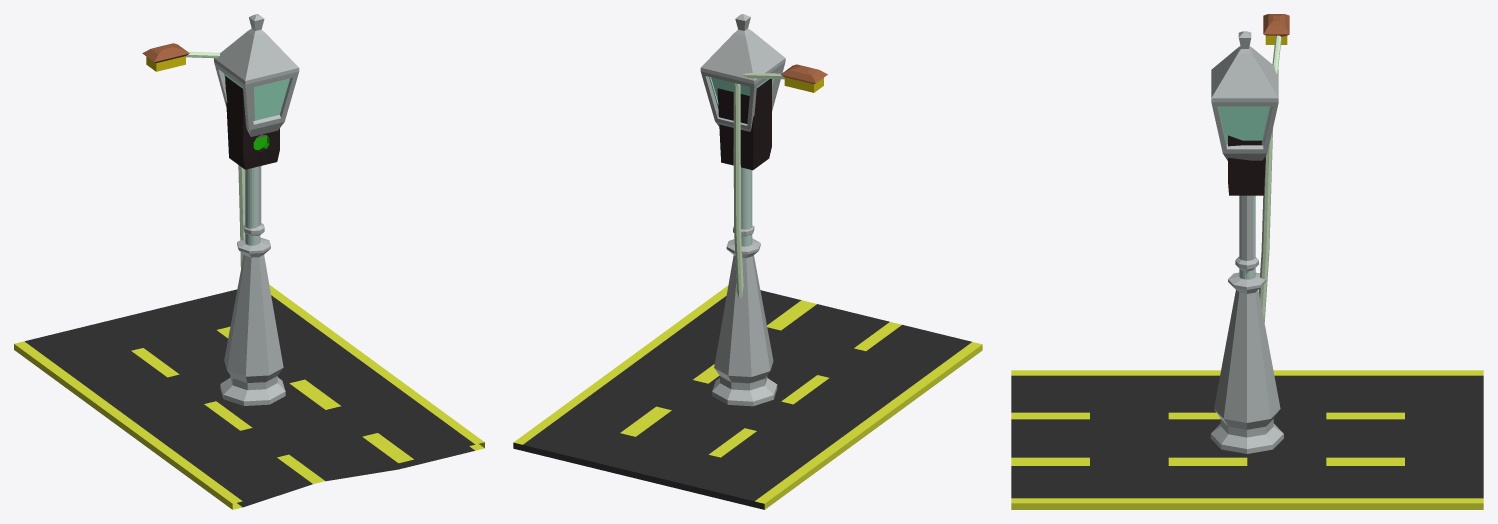
The model's file is YOLLU PAKET.fbx.
3 renders of one model, left to right at view 1: azimuth 30°, elevation 25°; view 2: azimuth 150°, elevation 25°; view 3: azimuth 270°, elevation 25°, orthographic. The views are drawn at different scales.
Parts seen in each view (by area): view 1: Plane.003, Plane, Cube.001, Cube.002, Plane.002; view 2: Plane.003, Plane, Plane.002, Cube.001, Cube.002; view 3: Plane.003, Plane, Plane.002, Cube.002, Cube.001.
Boxes of the visible parts, x1,y1,x2,y2 form: Plane.003: (14, 285, 484, 509); Plane: (214, 14, 299, 405); Cube.001: (225, 76, 279, 245); Cube.002: (142, 43, 244, 268); Plane.002: (14, 289, 236, 374); Plane.003: (542, 285, 982, 509); Plane: (700, 14, 785, 406); Plane.002: (513, 416, 799, 509); Cube.001: (717, 79, 771, 246); Cube.002: (733, 64, 827, 298); Plane.003: (1011, 370, 1483, 509); Plane: (1210, 31, 1283, 453); Plane.002: (1405, 376, 1483, 502); Cube.002: (1259, 14, 1289, 322); Cube.001: (1228, 135, 1265, 279).
Size of the model in its own units: 300 by 439 by 451.
